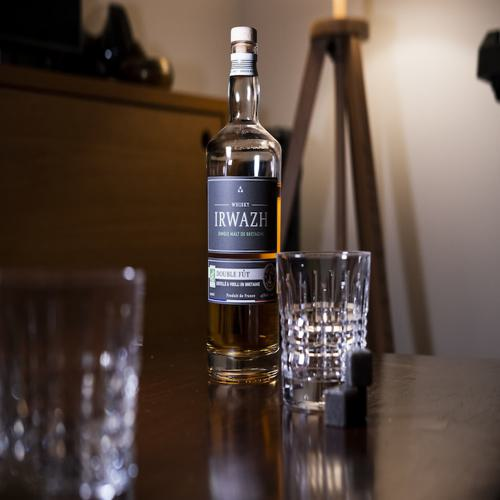vaso: (274, 251, 372, 411)
